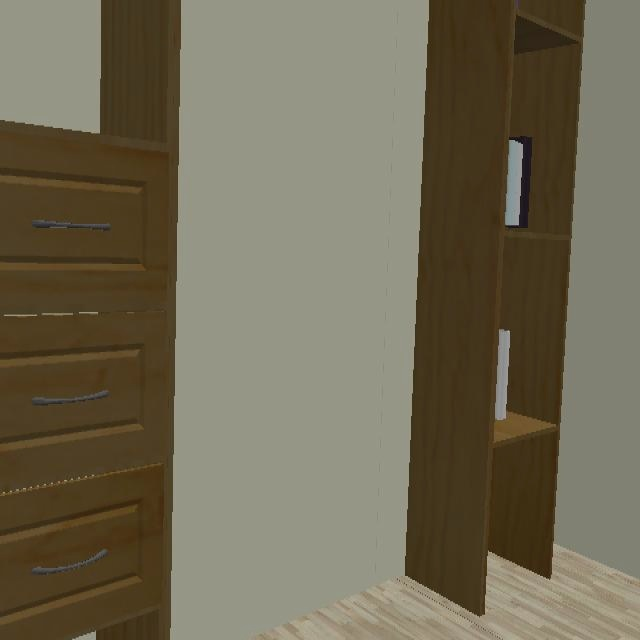book: (504, 133, 536, 232), (493, 324, 516, 427)
bookshelf: (405, 0, 586, 617)
cabinet: (0, 123, 175, 640)
